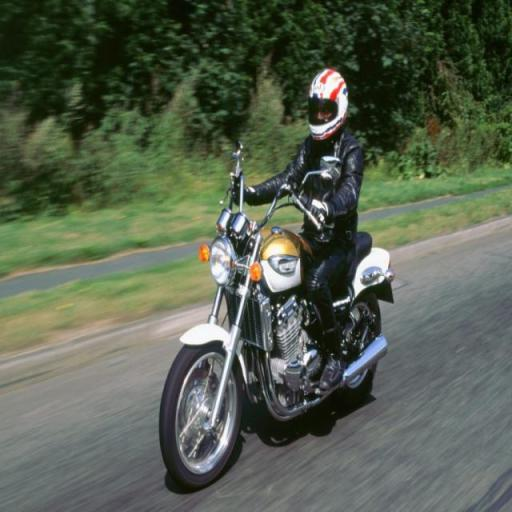Helmet: (308, 69, 347, 139)
Motor: (157, 194, 418, 494)
